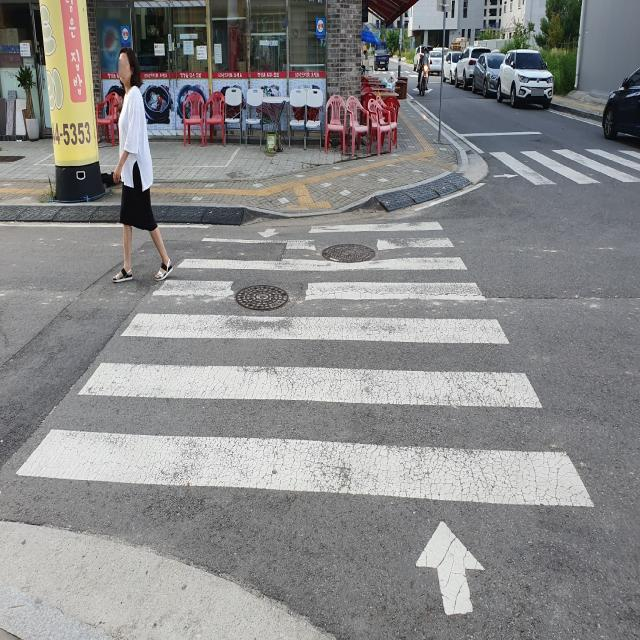횡단보도: (13, 217, 596, 620), (471, 125, 640, 196)
